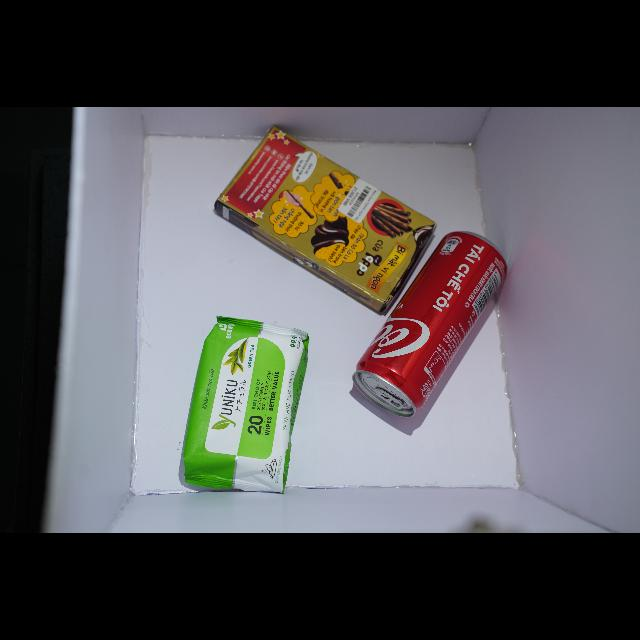banh_toppo_socola: (214, 126, 436, 312)
coca_cola: (353, 232, 507, 417)
khan_giay: (180, 317, 309, 493)
